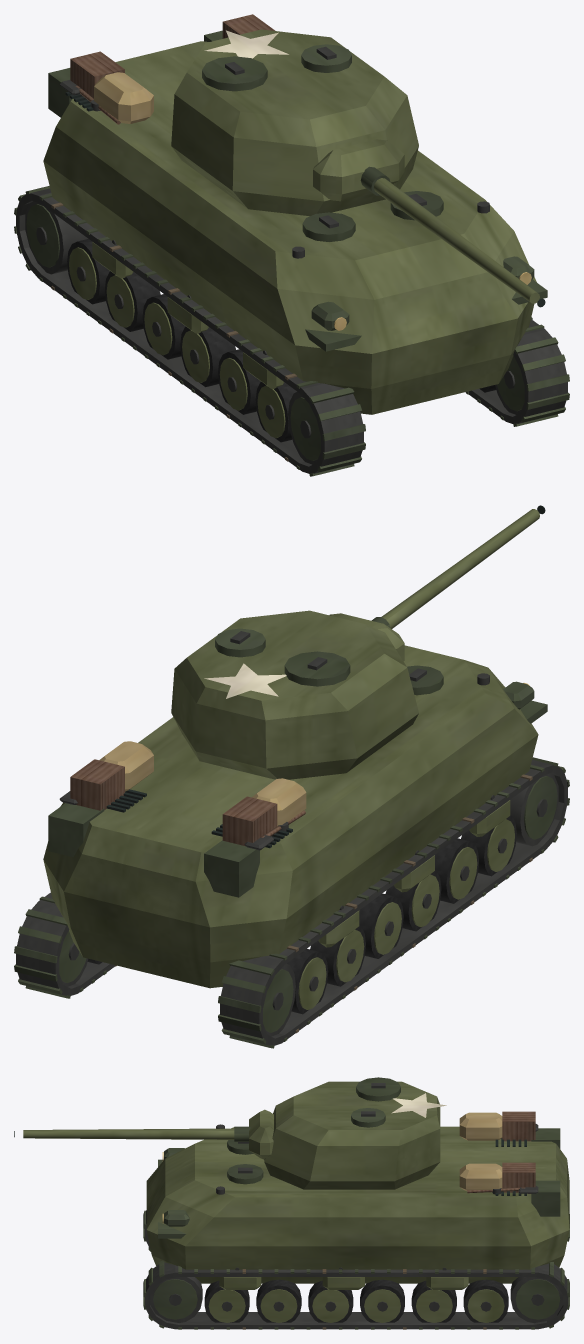
File: sherman-m4a1.glb
The picture shows the model from 3 angles, top to bottom: view 1: azimuth 30°, elevation 25°; view 2: azimuth 150°, elevation 25°; view 3: azimuth 270°, elevation 25°; orthographic projection. The views are drawn at different scales.
Parts seen in each view (by area): view 1: M4A1 (76) W Sherman; view 2: M4A1 (76) W Sherman; view 3: M4A1 (76) W Sherman.
Part boxes in pixels (bbox=[...]): M4A1 (76) W Sherman: bbox=[14, 14, 569, 476]; M4A1 (76) W Sherman: bbox=[14, 505, 569, 1048]; M4A1 (76) W Sherman: bbox=[14, 1077, 569, 1329].
Bounding box in the file's own units: 2.67 × 2.88 × 7.64.
Materials: 1 (1 with a texture image).
